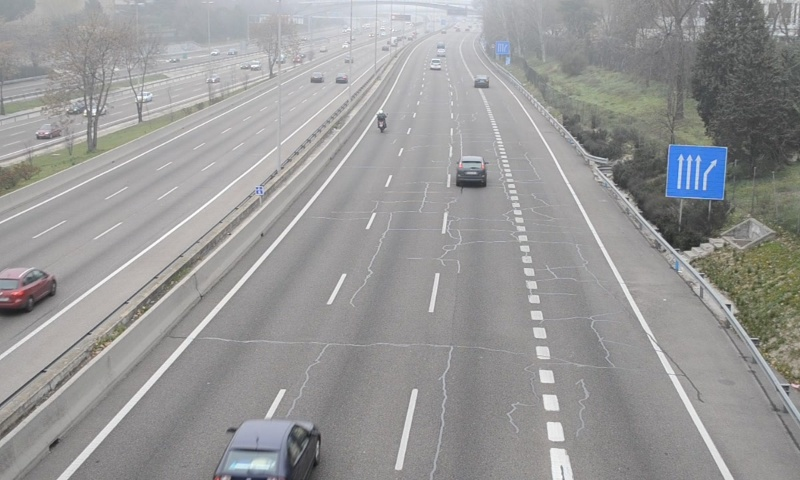car: (216, 418, 320, 480), (456, 155, 488, 188), (474, 74, 488, 88), (430, 58, 441, 70)
motorcycle: (375, 110, 387, 134)
